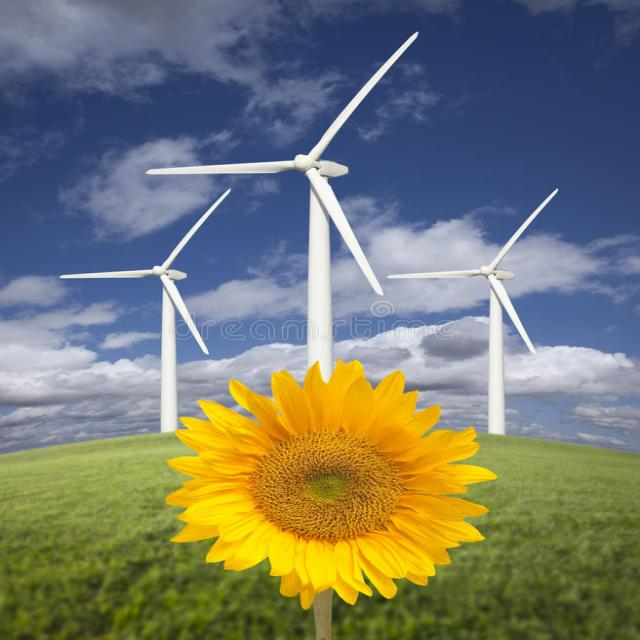sunflower: (144, 359, 519, 600)
